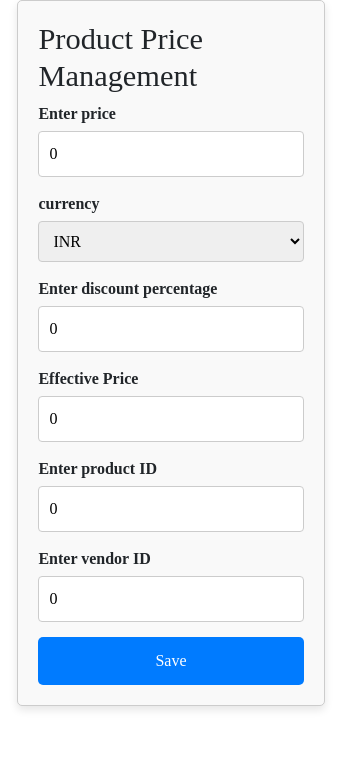
Scenario: PriceForm › shows validation errors for empty fields
The width and height of the screenshot is (343, 768).
Step 1. Click the button "Save" → (171, 661), box [38,637,304,685]
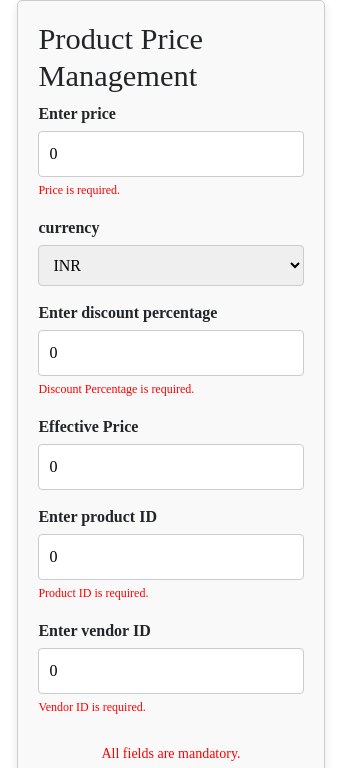
Expected: the text "Price is required." is shown, [38,183,120,197]
